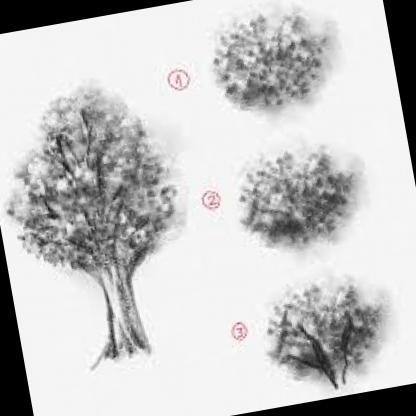crown_cloud: (0, 68, 194, 278)
trunk_bark: (98, 278, 148, 348)
